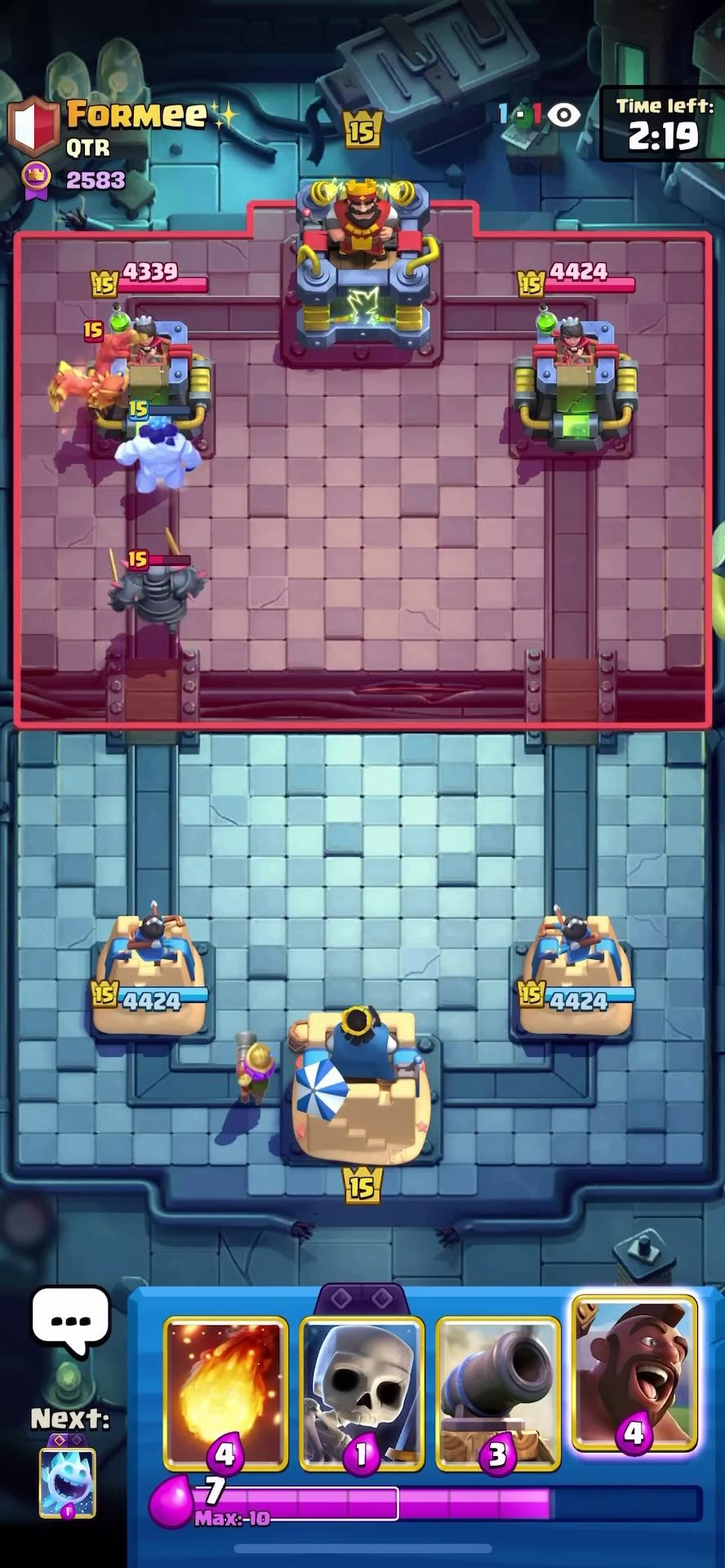ice_golem: (118, 400, 198, 500)
